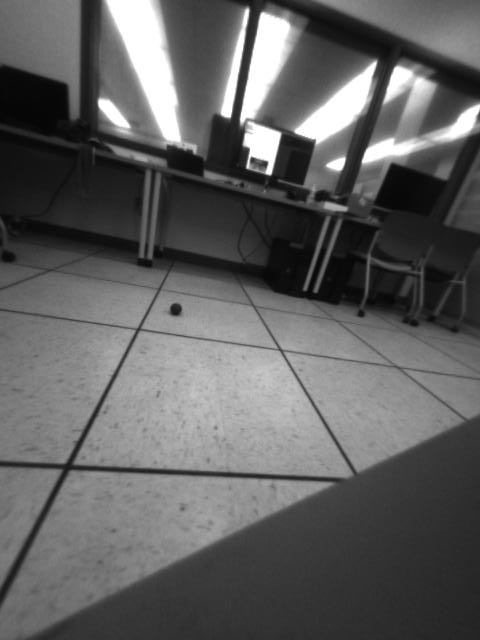dogtoy: (166, 298, 188, 319)
